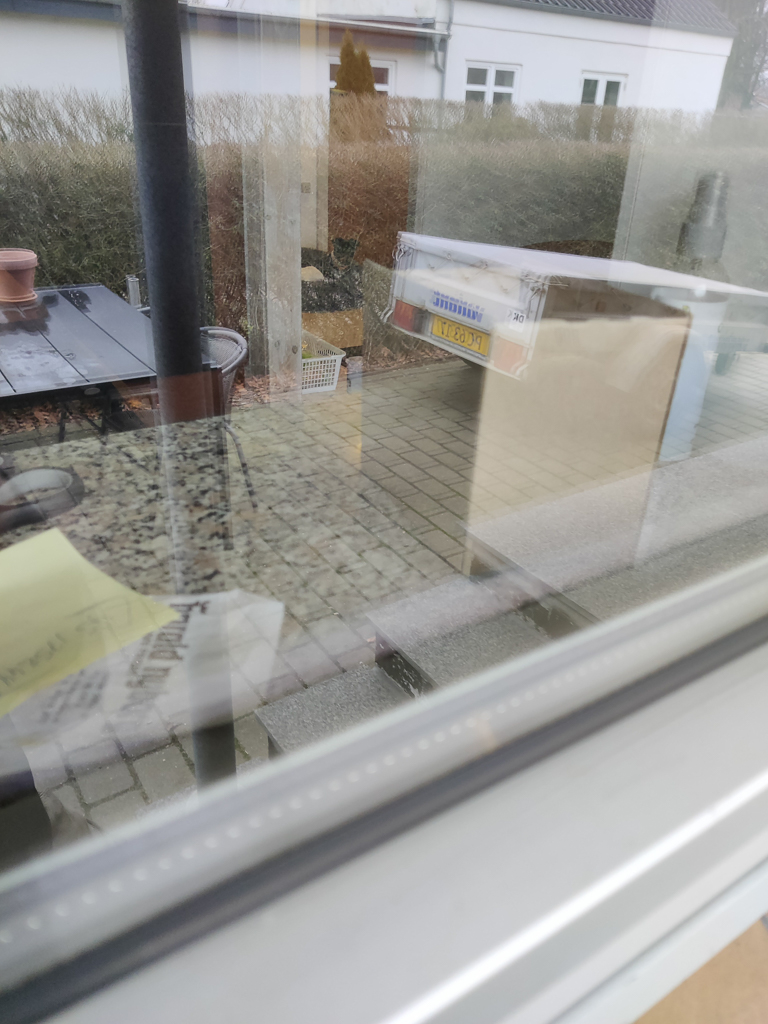Dog: (298, 233, 362, 286)
